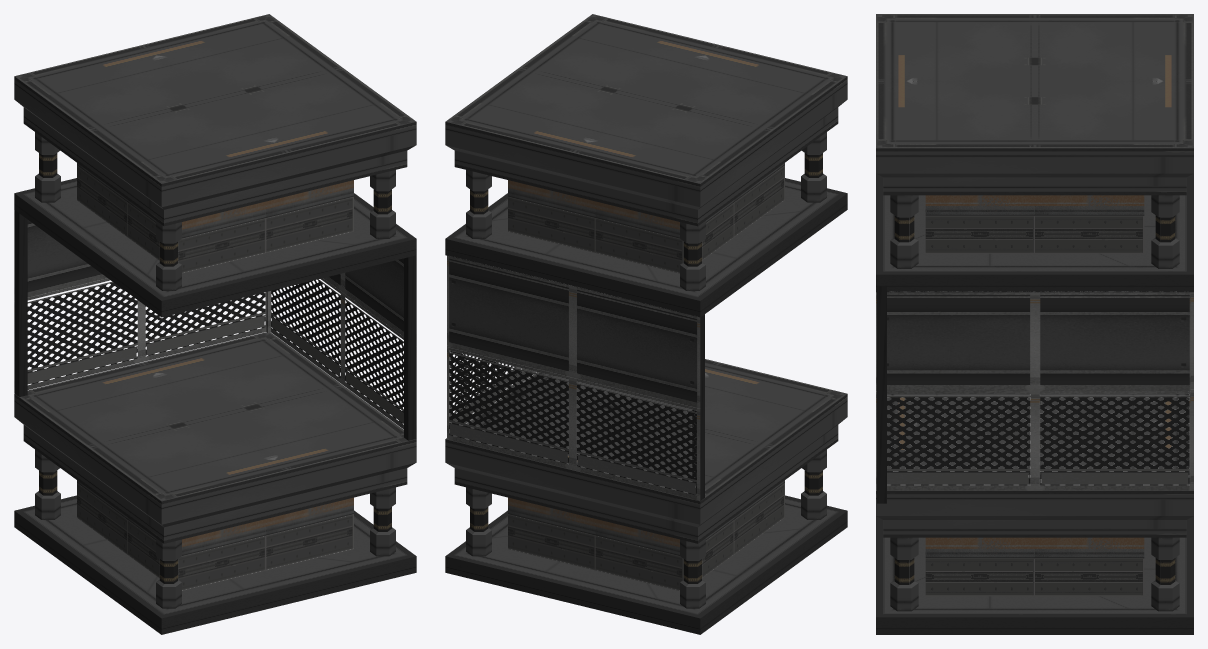
File: ArenaElevator.fbx
The picture shows the model from 3 angles, left to right: view 1: azimuth 30°, elevation 25°; view 2: azimuth 150°, elevation 25°; view 3: azimuth 270°, elevation 25°; orthographic projection. The views are drawn at different scales.
Parts seen in each view (by area): view 1: Elevator, Elevator.001; view 2: Elevator, Elevator.001; view 3: Elevator, Elevator.001.
Boxes of the visible parts, x1,y1,x2,y2 form: Elevator: (14, 14, 416, 634); Elevator.001: (14, 210, 416, 440); Elevator: (445, 14, 847, 634); Elevator.001: (447, 255, 704, 500); Elevator: (876, 14, 1193, 634); Elevator.001: (876, 286, 1193, 503).
Bounding box in the file's own units: 200 × 338 × 200.
